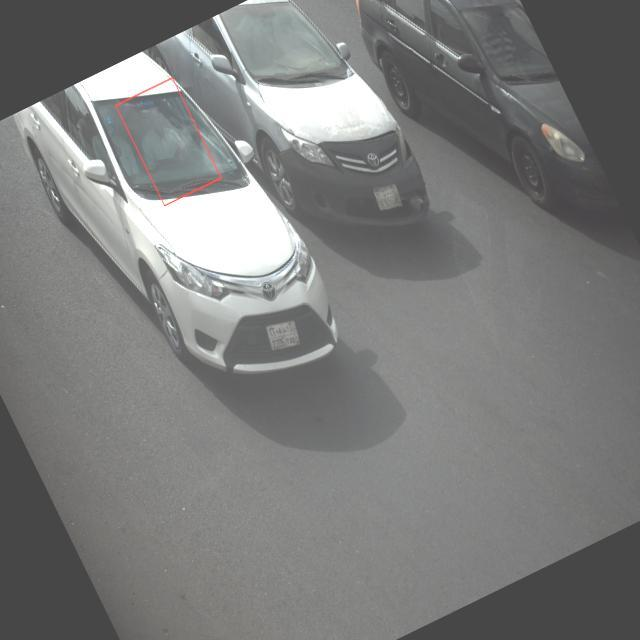windshield: (90, 88, 259, 202), (221, 1, 354, 88), (454, 3, 559, 93)
